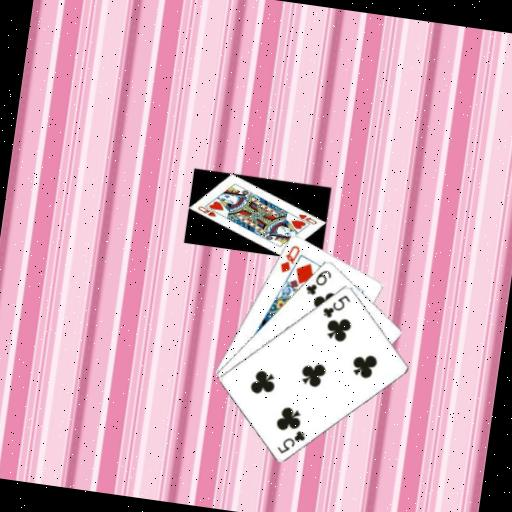5C: (319, 288, 353, 322), (274, 424, 308, 458)
6C: (301, 264, 334, 299)
QD: (276, 240, 302, 276)
